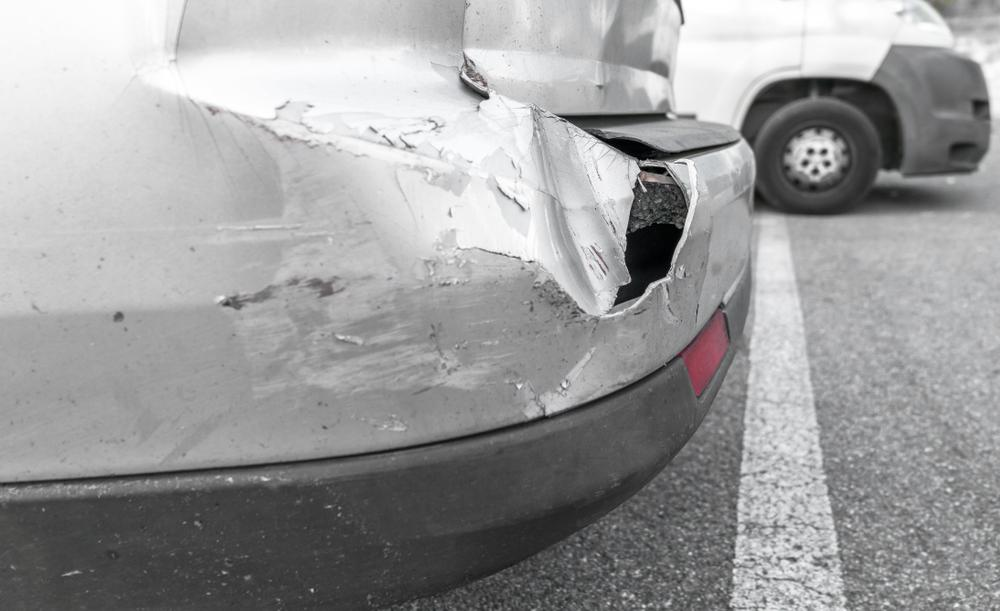crack: (604, 159, 692, 316)
dent: (528, 107, 628, 317)
scratch: (204, 92, 597, 400)
